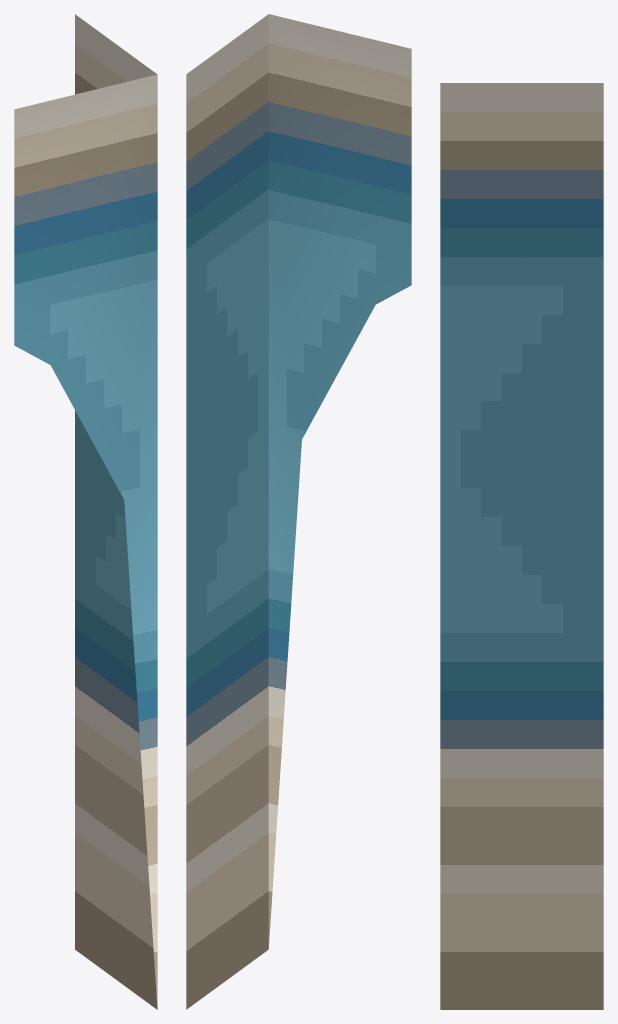
The picture shows the model from 3 angles, left to right: view 1: azimuth 30°, elevation 25°; view 2: azimuth 150°, elevation 25°; view 3: azimuth 270°, elevation 25°; orthographic projection.
Bounding box in the file's own units: 0.5 × 3.12 × 0.5.
Materials: 1 (1 with a texture image).
